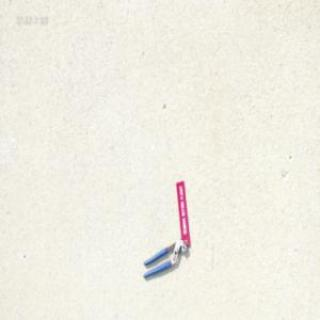LuggageTagtrack_idkeyframe: (176, 176, 190, 243)
Pliertrack_idkeyframe: (142, 237, 186, 277)
